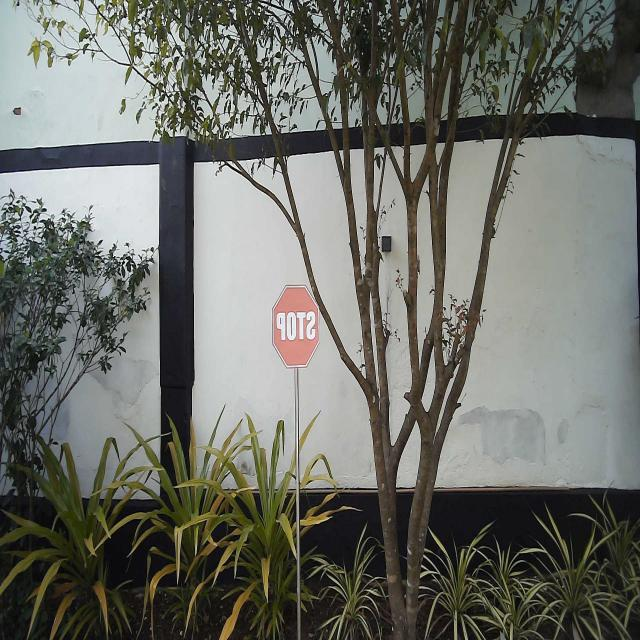stop: (270, 281, 322, 372)
